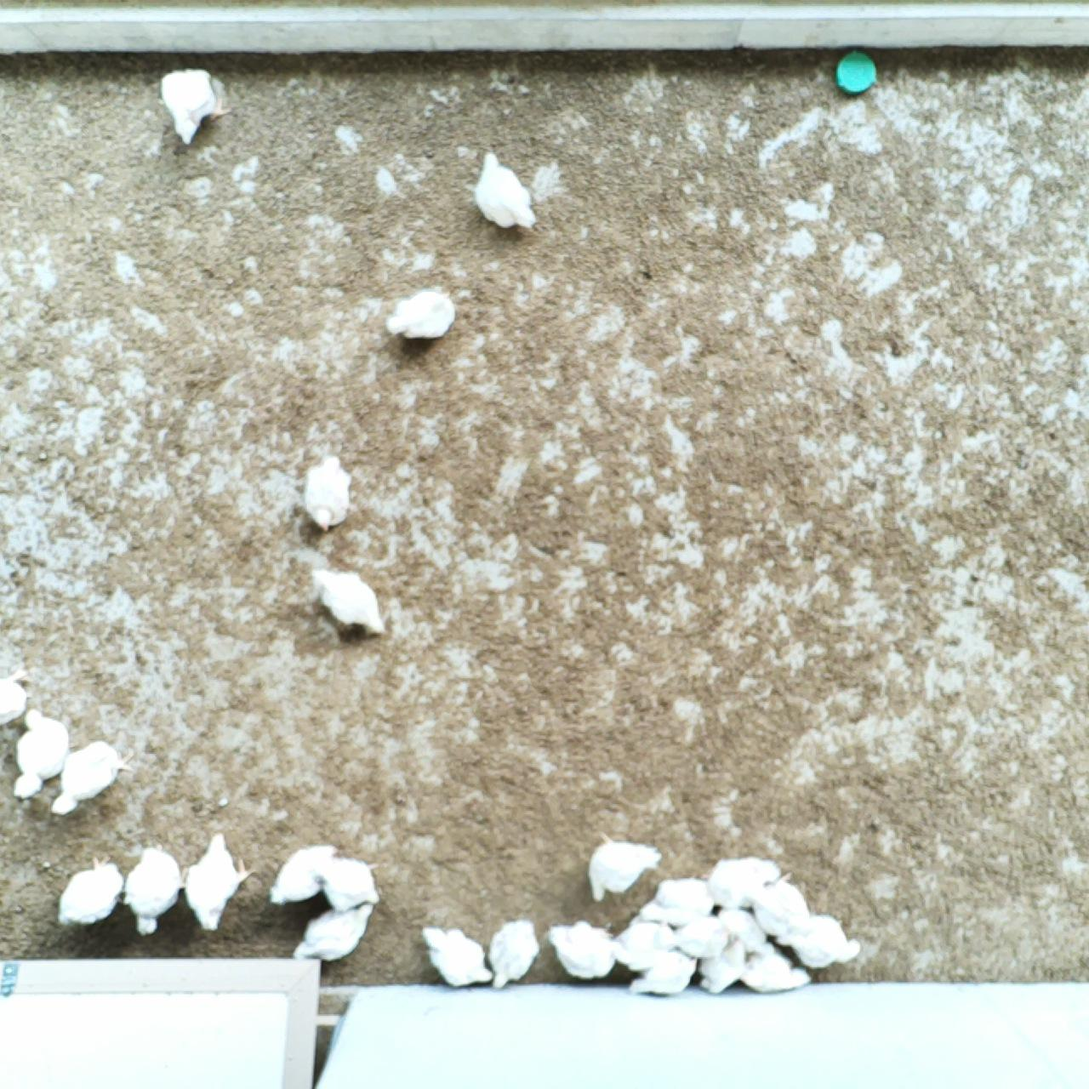chicken: (184, 829, 256, 932), (49, 734, 135, 819), (306, 563, 390, 644), (586, 827, 667, 906), (292, 893, 375, 969), (12, 698, 71, 803), (157, 62, 231, 145), (123, 843, 185, 936), (471, 147, 537, 234), (417, 922, 492, 992), (621, 947, 706, 1006), (297, 452, 360, 531), (640, 869, 720, 931), (545, 914, 619, 981), (781, 911, 863, 970), (386, 283, 461, 346), (707, 853, 786, 912), (742, 874, 814, 938), (267, 845, 339, 908), (56, 857, 121, 926), (611, 912, 682, 972), (317, 852, 381, 916), (487, 914, 540, 991), (690, 935, 751, 999), (735, 945, 810, 997), (667, 906, 733, 959), (712, 900, 764, 957), (0, 652, 31, 735)
